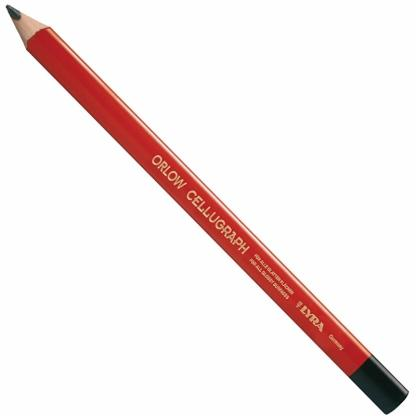pencil: (3, 1, 414, 416)
